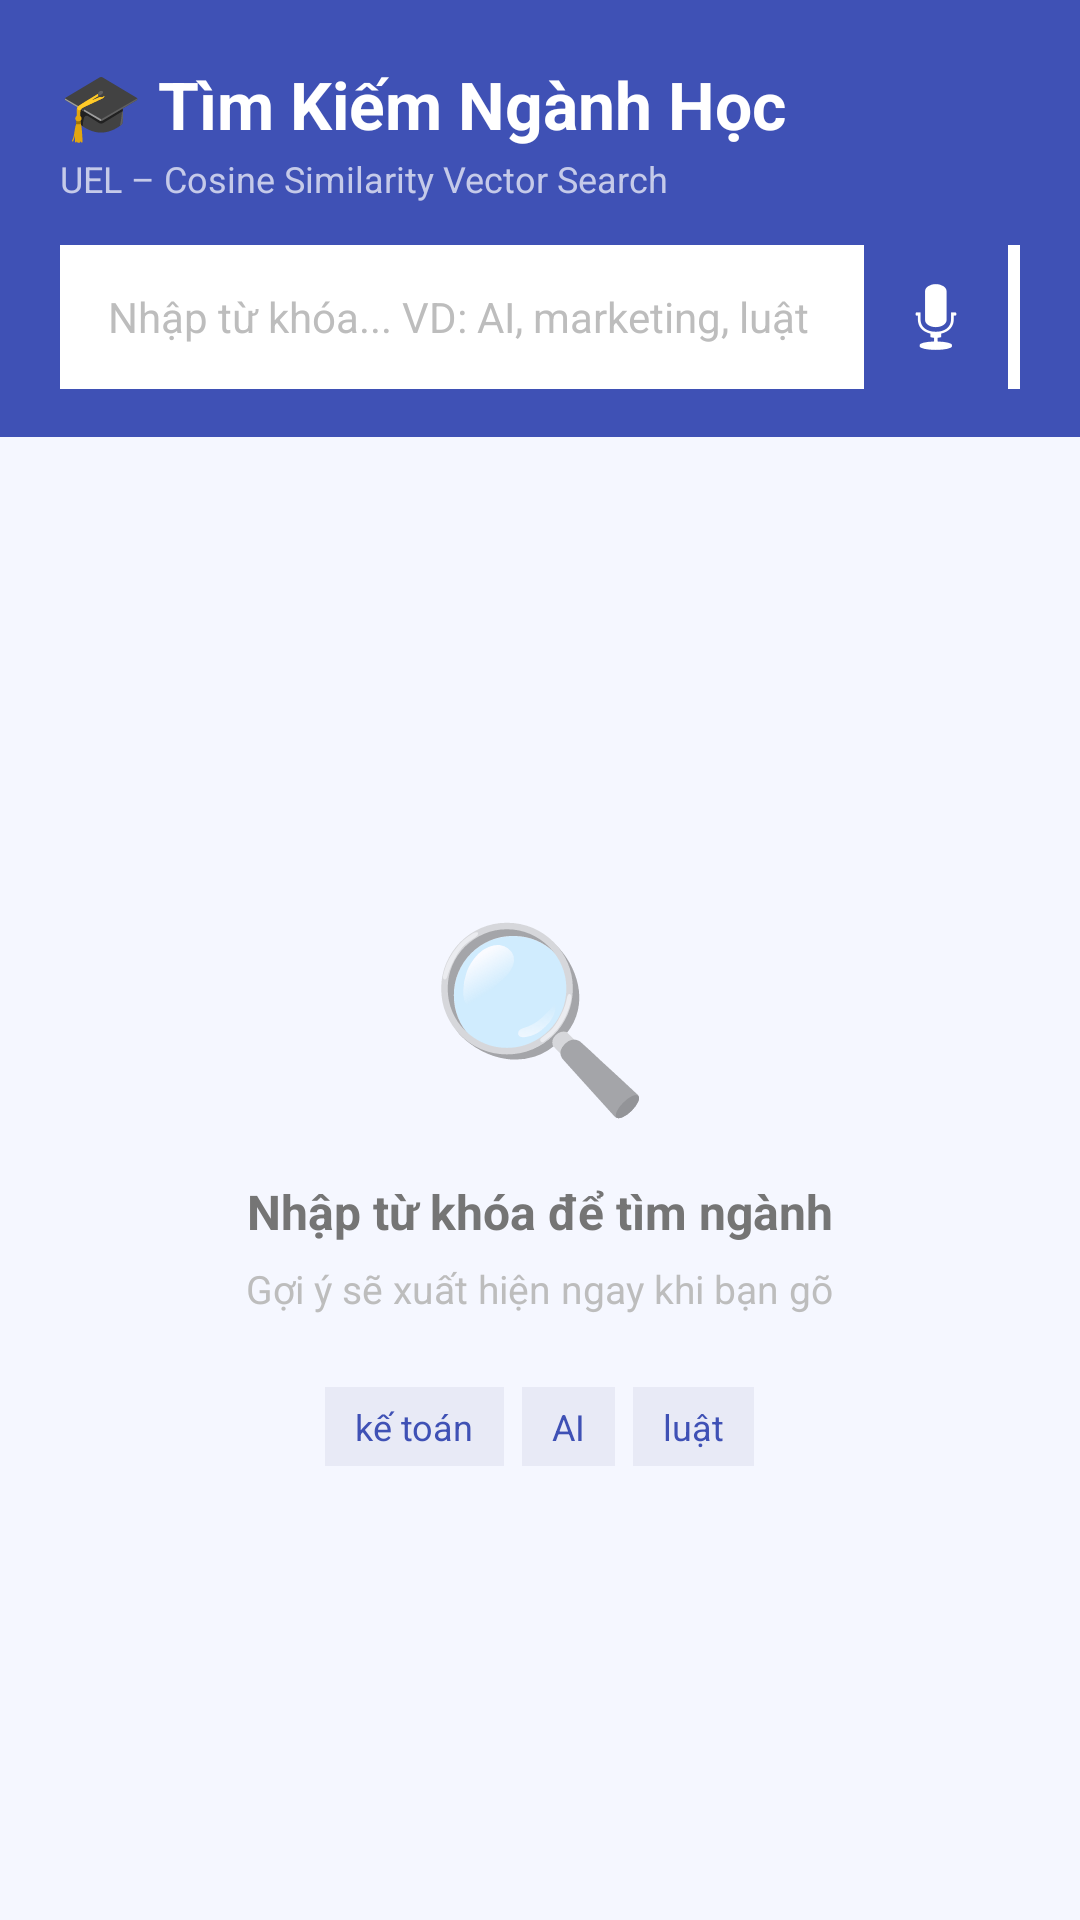

Named icons in this screenshot (1080x1920) and their centers, (x,y):
Voice: (936,317)
